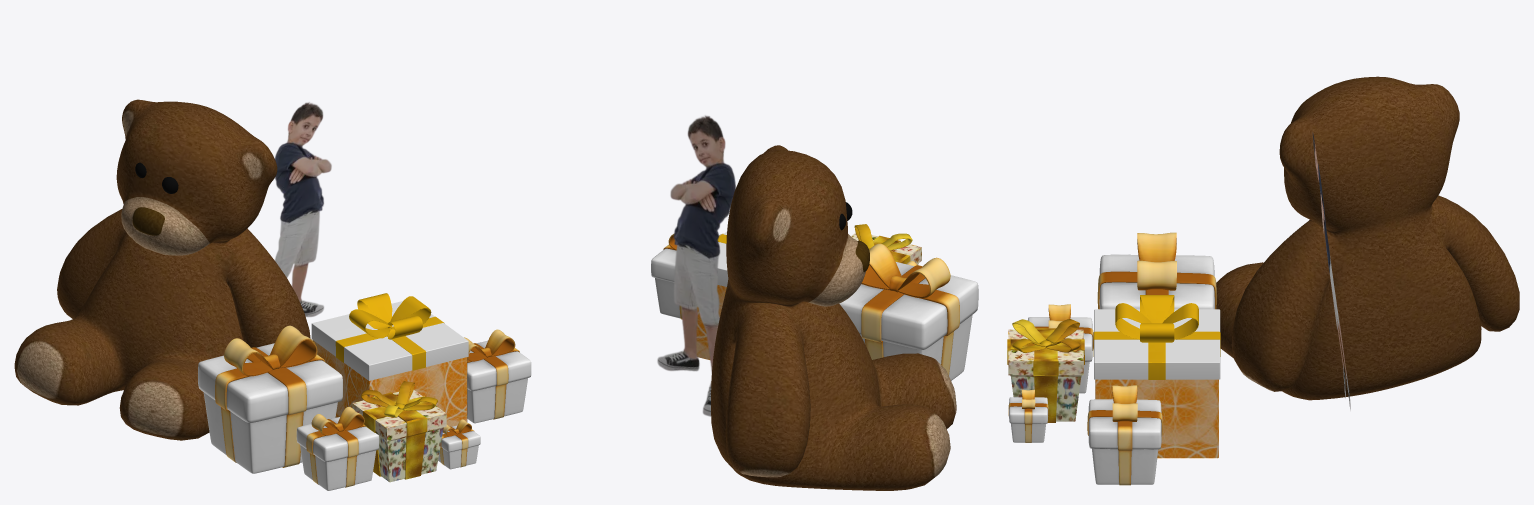
Rendered from BDV.glb.
3 views of the same model, side by side, from view 1: azimuth 30°, elevation 25°; view 2: azimuth 150°, elevation 25°; view 3: azimuth 270°, elevation 25° (orthographic). The views are drawn at different scales.
Parts seen in each view (by area): view 1: Cube, GIFT_BOX, images__1_-removebg-preview, Giftbox_2_0, SK_GiftBox.001, GIFT_BOX_gift_box_Material_0.003, GIFT_BOX_gift_box_Material_0.001, SK_GiftBox.002, SK_GiftBox, GIFT_BOX_gift_box_Material_0.002; view 2: Cube, GIFT_BOX, images__1_-removebg-preview, GIFT_BOX_gift_box_Material_0.001, Giftbox_2_0, SK_GiftBox.002; view 3: Cube, GIFT_BOX, GIFT_BOX_gift_box_Material_0.001, Giftbox_2_0, SK_GiftBox.001, SK_GiftBox.002, SK_GiftBox, GIFT_BOX_gift_box_Material_0.002, GIFT_BOX_gift_box_Material_0.003, images__1_-removebg-preview.
Boxes of the visible parts, x1,y1,x2,y2 form: Cube: [14, 99, 310, 440]; GIFT_BOX: [198, 325, 342, 473]; images__1_-removebg-preview: [274, 102, 331, 316]; Giftbox_2_0: [352, 381, 446, 482]; SK_GiftBox.001: [311, 301, 468, 380]; GIFT_BOX_gift_box_Material_0.003: [296, 407, 379, 490]; GIFT_BOX_gift_box_Material_0.001: [464, 329, 531, 423]; SK_GiftBox.002: [313, 340, 467, 426]; SK_GiftBox: [335, 293, 444, 370]; GIFT_BOX_gift_box_Material_0.002: [438, 419, 480, 469]; Cube: [711, 145, 956, 490]; GIFT_BOX: [839, 243, 978, 380]; images__1_-removebg-preview: [657, 115, 735, 416]; GIFT_BOX_gift_box_Material_0.001: [651, 233, 723, 319]; Giftbox_2_0: [851, 224, 921, 264]; SK_GiftBox.002: [696, 285, 726, 360]; Cube: [1216, 76, 1519, 400]; GIFT_BOX: [1097, 232, 1216, 309]; GIFT_BOX_gift_box_Material_0.001: [1087, 385, 1162, 485]; Giftbox_2_0: [1007, 319, 1084, 422]; SK_GiftBox.001: [1094, 309, 1220, 379]; SK_GiftBox.002: [1095, 379, 1218, 458]; SK_GiftBox: [1093, 295, 1220, 379]; GIFT_BOX_gift_box_Material_0.002: [1008, 389, 1048, 442]; GIFT_BOX_gift_box_Material_0.003: [1027, 304, 1093, 393]; images__1_-removebg-preview: [1312, 132, 1350, 410].
Size of the model in its own units: 4.03 by 3.44 by 4.37.
10 materials, 8 textured.
